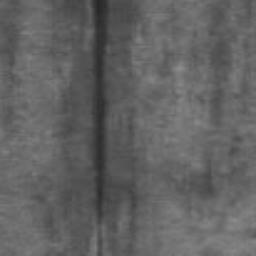Scratches: (89, 0, 110, 256)
